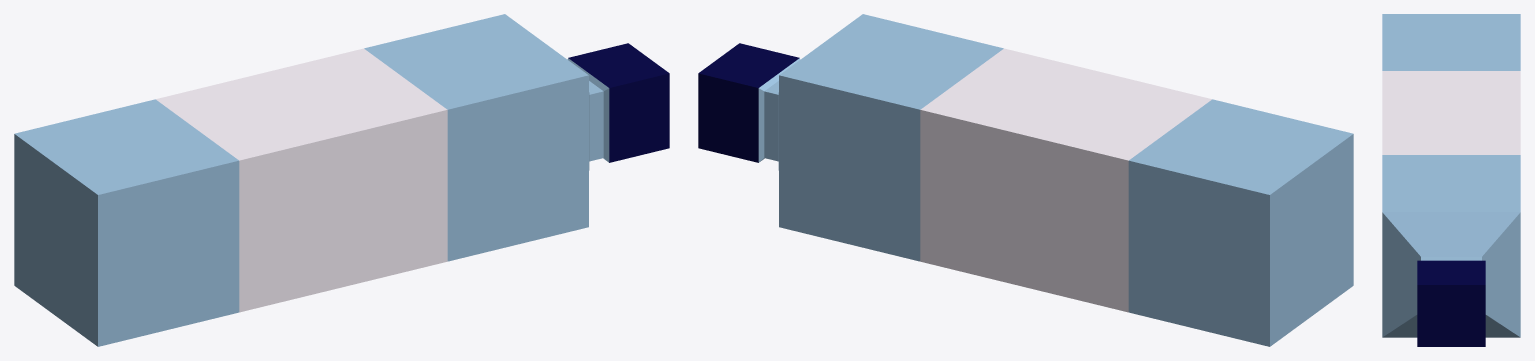
Rendered from Garbage-Plastic-WaterBottle.glb.
3 views of the same model, side by side, from view 1: azimuth 30°, elevation 25°; view 2: azimuth 150°, elevation 25°; view 3: azimuth 270°, elevation 25° (orthographic). The views are drawn at different scales.
Visible parts, largest first — view 1: Garbage.PL.Bottle; view 2: Garbage.PL.Bottle; view 3: Garbage.PL.Bottle.
Part boxes in pixels (left/top/right/bottom): Garbage.PL.Bottle: left=14, top=14, right=669, bottom=346; Garbage.PL.Bottle: left=698, top=14, right=1353, bottom=346; Garbage.PL.Bottle: left=1382, top=14, right=1520, bottom=346.
Size of the model in its own units: 0.4885 by 0.1196 by 0.1196.
